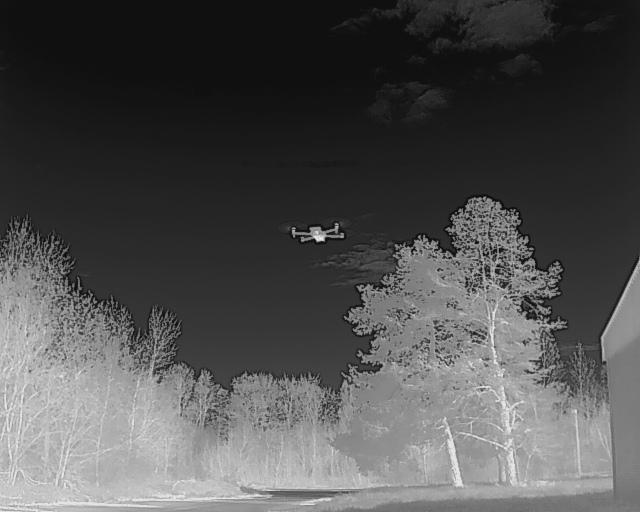drone: (284, 218, 352, 252)
